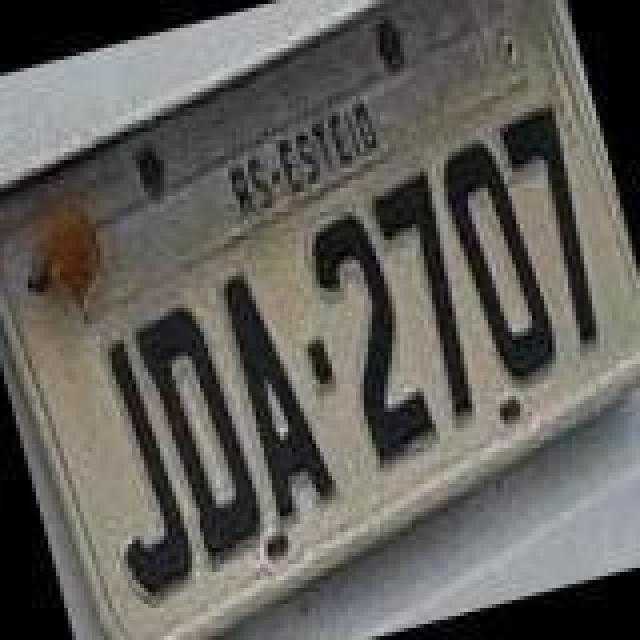2: (302, 204, 442, 468)
7: (366, 168, 490, 424), (496, 104, 616, 352)
A: (218, 264, 342, 520)
D: (130, 296, 270, 560)
J: (70, 334, 202, 602)
O: (430, 132, 562, 388)
